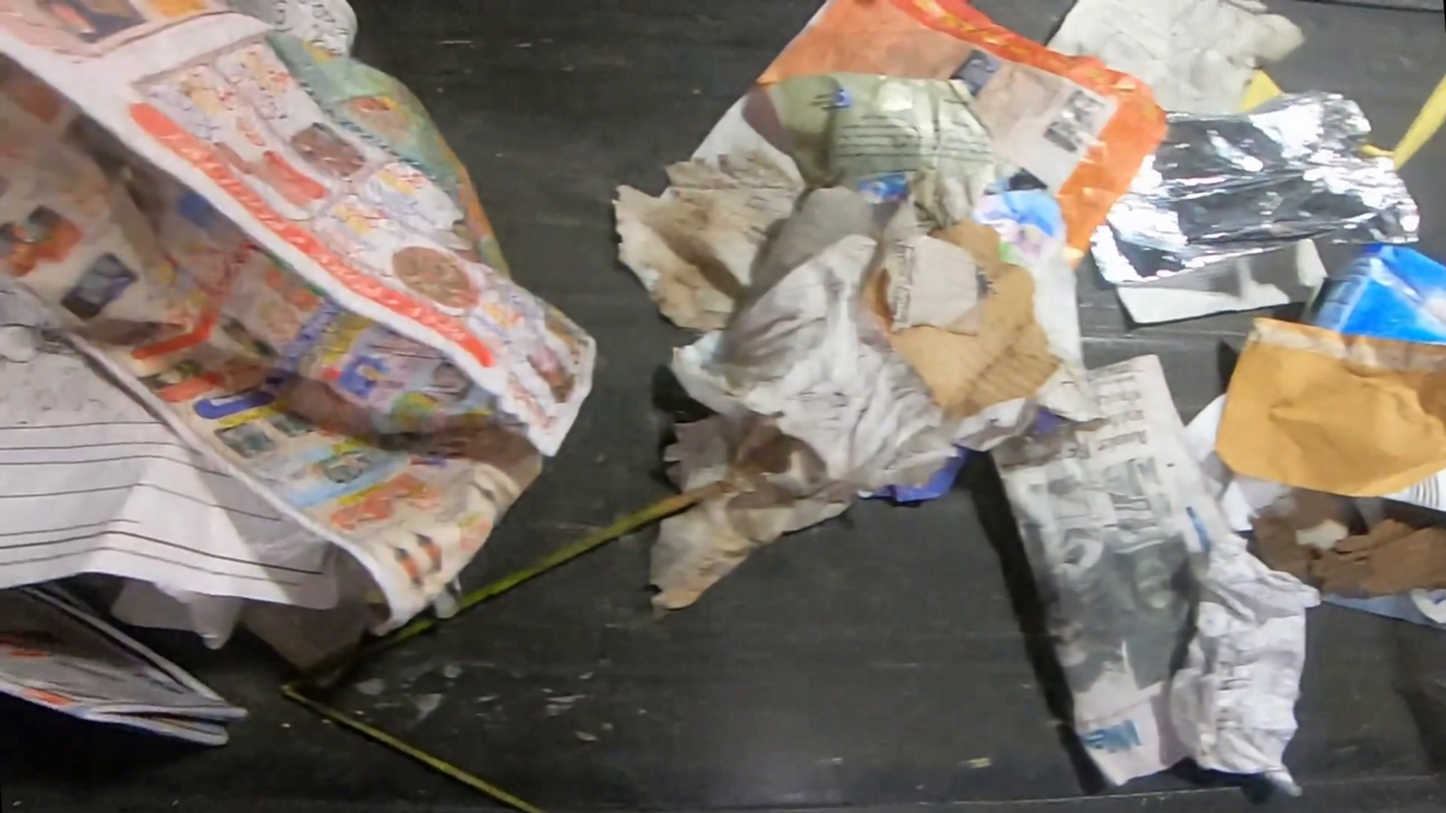cardboard: (858, 223, 1059, 418)
plastic: (1088, 89, 1425, 290)
